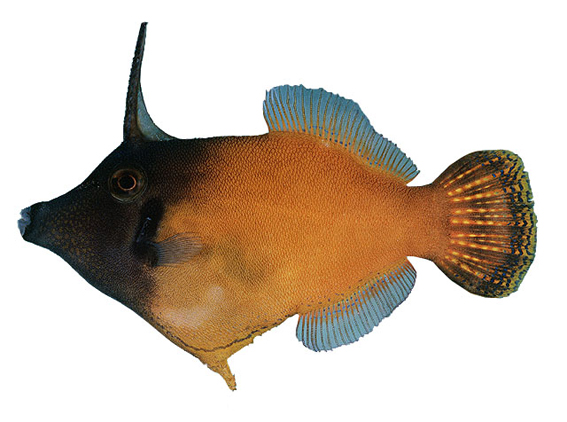fish: (17, 22, 541, 390)
